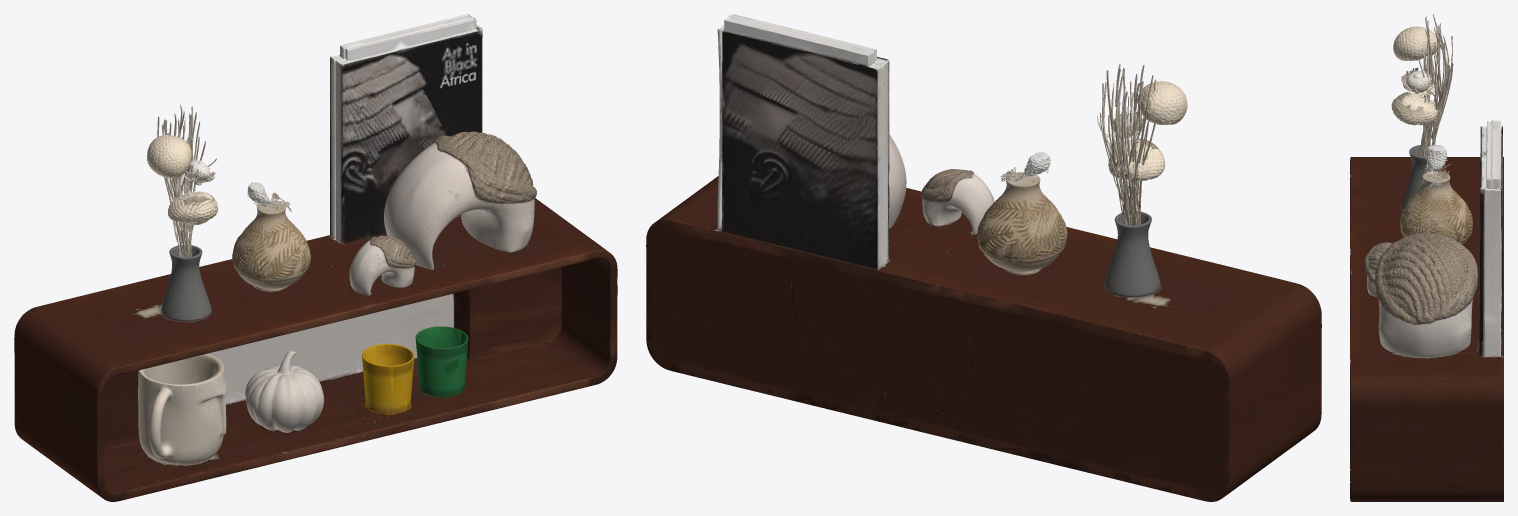
Rendered from ellementry-boxy-wooden-wall-shelf-home-decor-items-wall-moun.glb.
3 renders of one model, left to right at view 1: azimuth 30°, elevation 25°; view 2: azimuth 150°, elevation 25°; view 3: azimuth 270°, elevation 25°, orthographic. The views are drawn at different scales.
Size of the model in its own units: 1.9 by 1.17 by 0.5243.
1 material, 1 textured.
